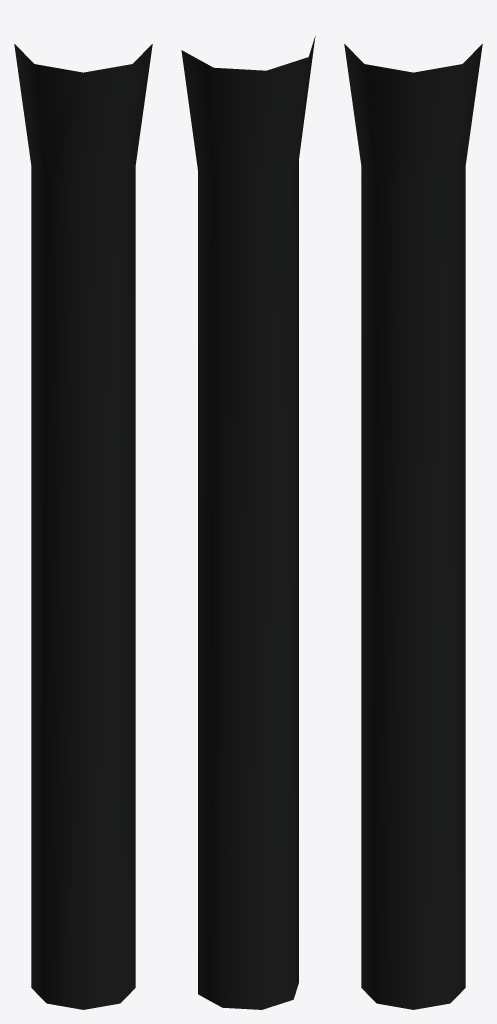
Rendered from AMB_NK_LORD_HASHIRA.glb.
3 views of the same model, side by side, from view 1: azimuth 90°, elevation 25°; view 2: azimuth 150°, elevation 25°; view 3: azimuth 270°, elevation 25° (orthographic).
Parts seen in each view (by area): view 1: BASE; view 2: BASE; view 3: BASE.
Part boxes in pixels (box(x1,y1,x2,y2)): BASE: box(14, 44, 152, 1009); BASE: box(181, 36, 315, 1009); BASE: box(344, 44, 482, 1009).
Size of the model in its own units: 13.31 by 100 by 13.31.
1 material, 1 textured.
